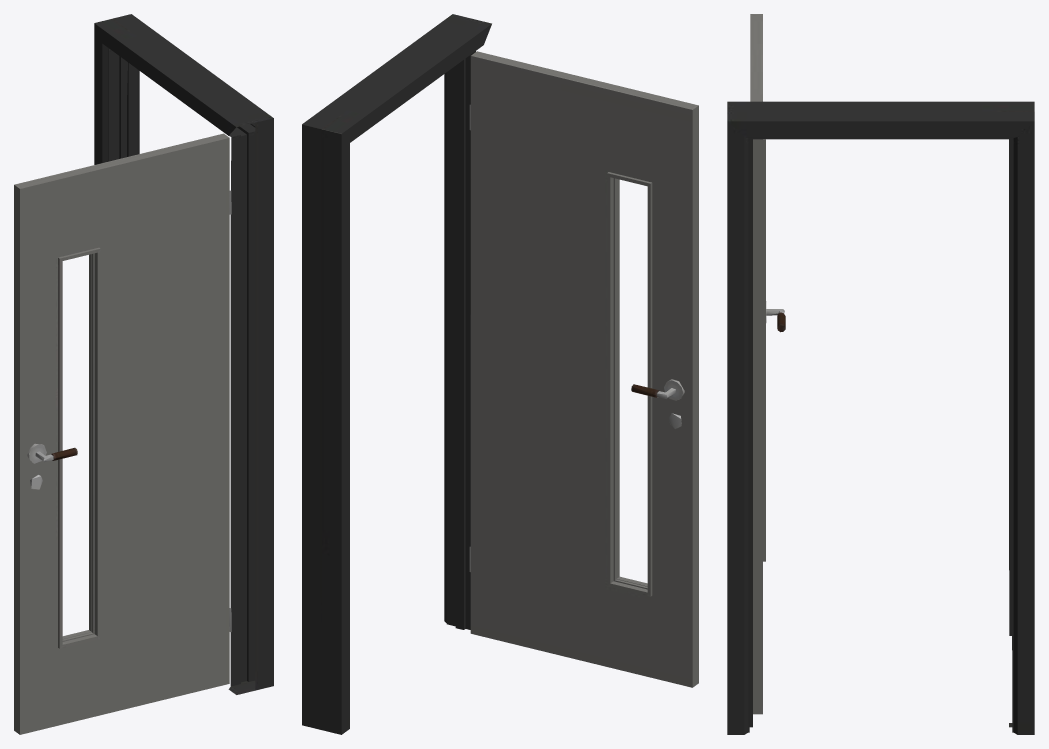
File: Door0028open.obj
3 renders of one model, left to right at view 1: azimuth 30°, elevation 25°; view 2: azimuth 150°, elevation 25°; view 3: azimuth 270°, elevation 25°, orthographic. The views are drawn at different scales.
Size of the model in its own units: 0.951 by 2.12 by 0.964.
Materials: 1 (1 with a texture image).
